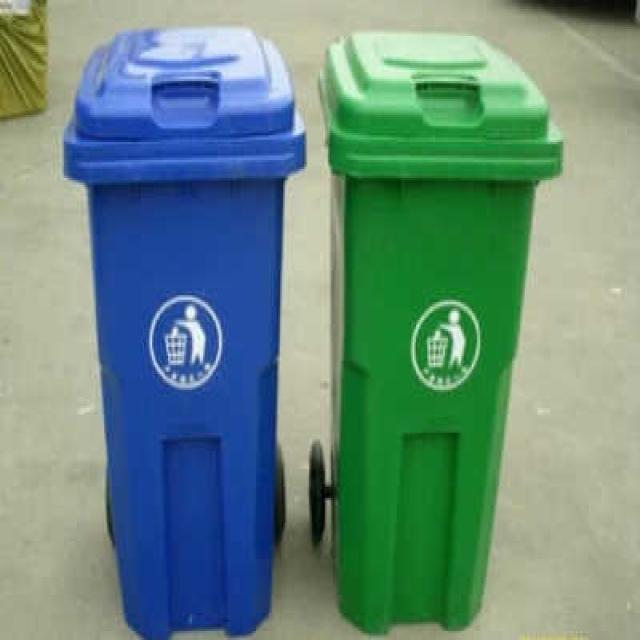garbage_bin: (315, 23, 562, 631), (61, 22, 304, 636)
